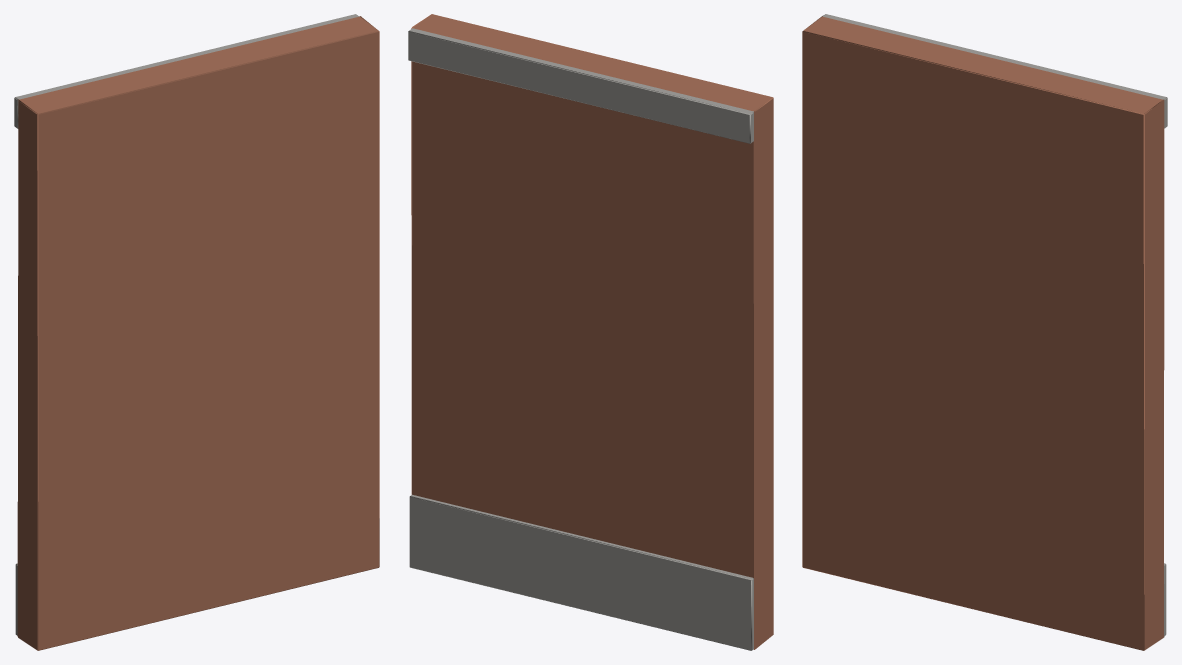
File: SM_VB_FacB_GroundPlain.fbx
The picture shows the model from 3 angles, left to right: view 1: azimuth 30°, elevation 25°; view 2: azimuth 150°, elevation 25°; view 3: azimuth 330°, elevation 25°; orthographic projection.
Visible parts, largest first — view 1: SM_VB_FacB_GroundPlain; view 2: SM_VB_FacB_GroundPlain; view 3: SM_VB_FacB_GroundPlain.
Part boxes in pixels (x1,y1,x2,y2): SM_VB_FacB_GroundPlain: (14, 14, 379, 650); SM_VB_FacB_GroundPlain: (408, 14, 773, 650); SM_VB_FacB_GroundPlain: (802, 14, 1167, 650).
Bounding box in the file's own units: 3 × 4.51 × 0.36.
